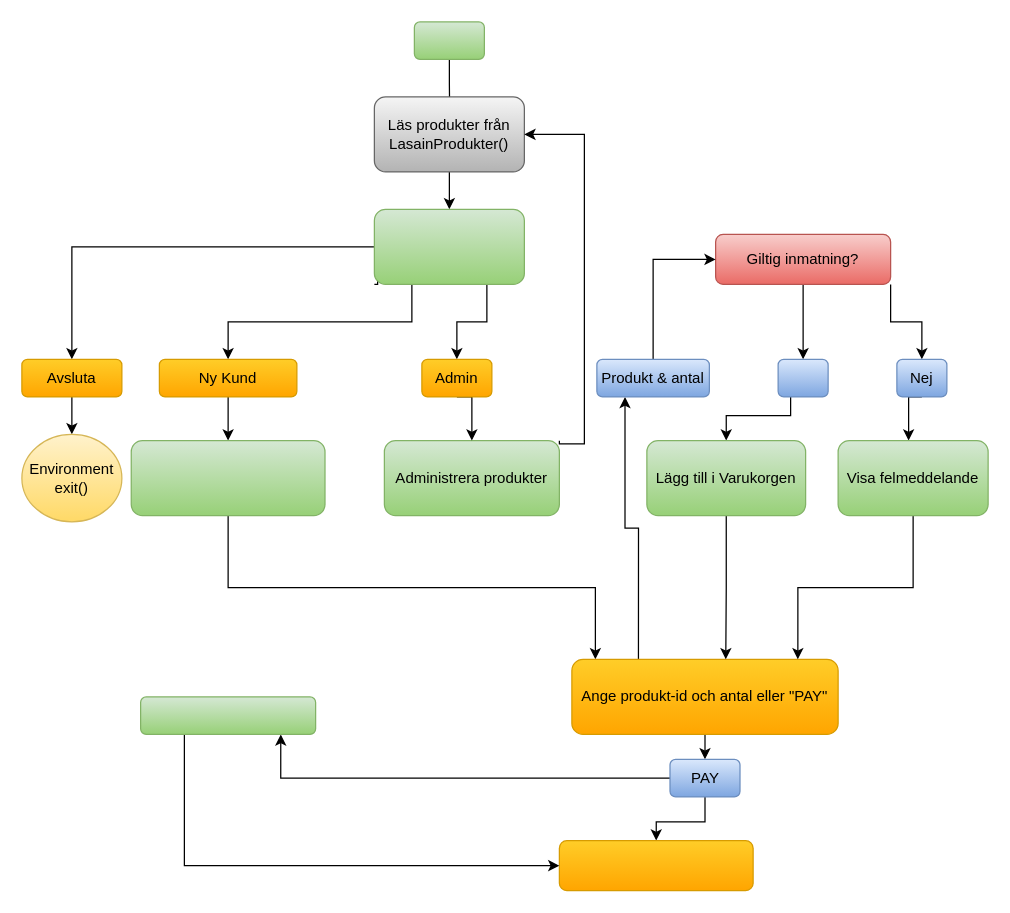
The diagram is 1010 pixels wide and 913 high, and some of its shapes have lost their labels. The shapes that lost their labels are listed below. From the top down, each one's centre as x and y in pixels, then its label:
the point at 448,40: start
the point at 448,246: Huvudmeny
the point at 802,377: Ja
the point at 227,477: starta en ny tom varukorg
the point at 227,715: Visa och spara kvitto
the point at 655,865: Beräkna totalsumman
